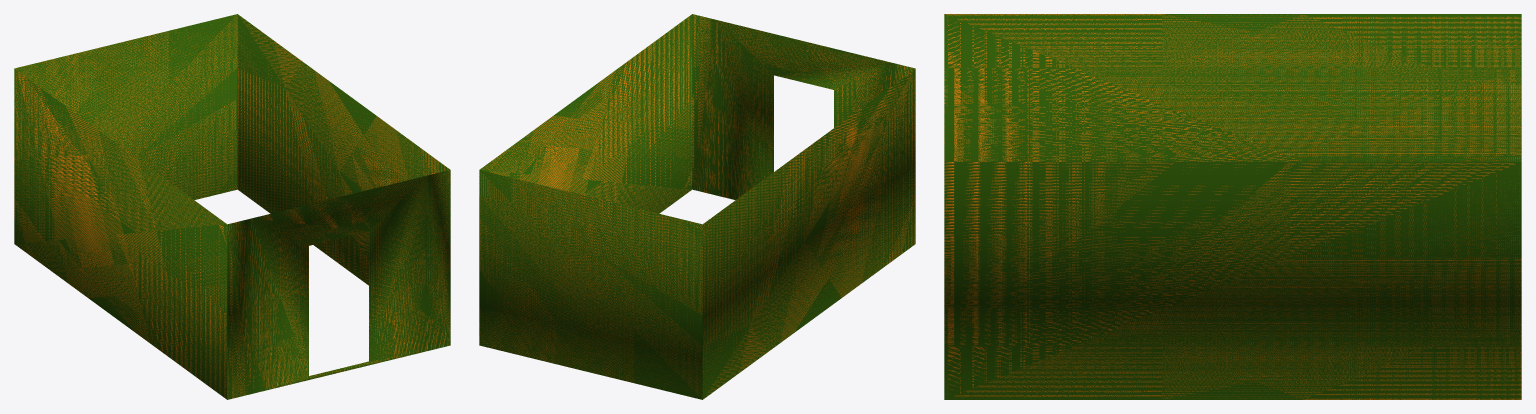
File: original-10.obj
The picture shows the model from 3 angles, left to right: view 1: azimuth 30°, elevation 25°; view 2: azimuth 150°, elevation 25°; view 3: azimuth 270°, elevation 25°; orthographic projection. The views are drawn at different scales.
Visible parts, largest first — view 1: mesh1/mesh1-geometry/material_1/component_1#mesh1-geometry; view 2: mesh1/mesh1-geometry/material_1/component_1#mesh1-geometry; view 3: mesh1/mesh1-geometry/material_1/component_1#mesh1-geometry.
Part boxes in pixels (bbox=[...]): mesh1/mesh1-geometry/material_1/component_1#mesh1-geometry: bbox=[14, 14, 450, 399]; mesh1/mesh1-geometry/material_1/component_1#mesh1-geometry: bbox=[479, 14, 915, 399]; mesh1/mesh1-geometry/material_1/component_1#mesh1-geometry: bbox=[944, 14, 1521, 399].
Size of the model in its own units: 0.9608 by 0.7223 by 1.59.
